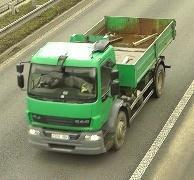truck: (17, 16, 177, 157)
